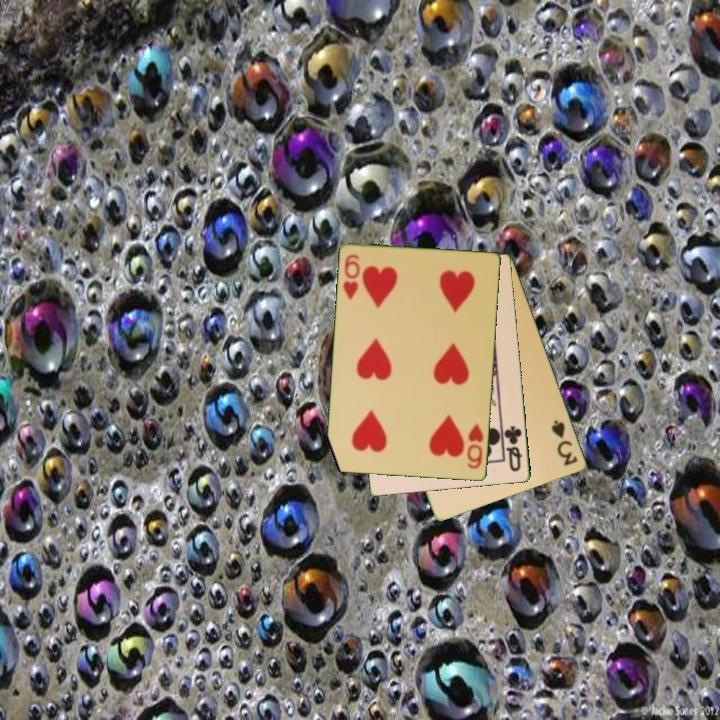3s: (548, 417, 581, 469)
6h: (340, 251, 363, 303), (464, 420, 486, 472)
Qc: (501, 423, 525, 475)
